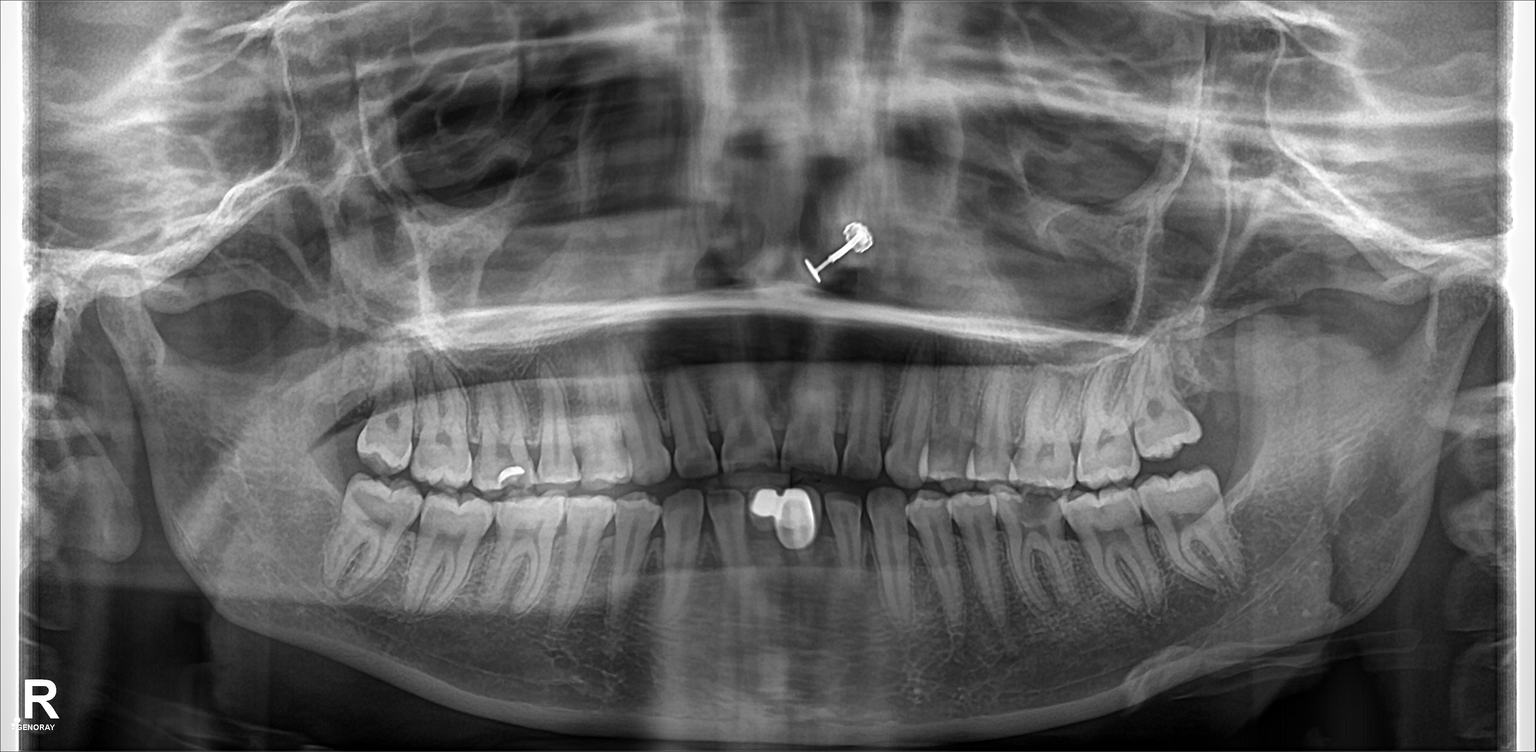Dental Caries: (1013, 495, 1059, 539)
Missing Tooth: (1186, 359, 1247, 444)
